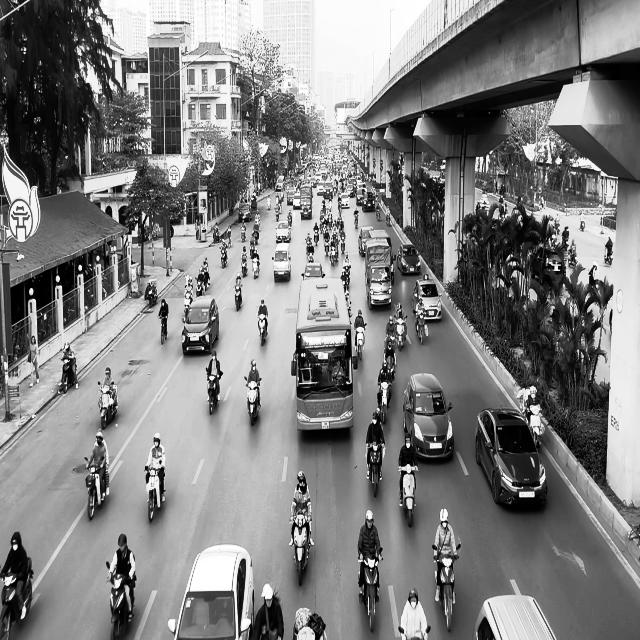bus: (291, 276, 354, 432)
car: (168, 544, 255, 640), (475, 407, 547, 508), (403, 372, 454, 461), (472, 594, 557, 639), (181, 296, 219, 356), (530, 246, 566, 287), (412, 276, 442, 321), (396, 244, 421, 275), (272, 244, 291, 282), (301, 262, 325, 280), (274, 220, 290, 243)
motorbike: (0, 557, 34, 639), (432, 543, 460, 631), (105, 560, 136, 638), (358, 550, 382, 632), (84, 456, 110, 520), (290, 512, 312, 586), (398, 464, 418, 527), (144, 464, 165, 522), (366, 440, 385, 497), (97, 380, 118, 429), (244, 375, 261, 426), (205, 368, 223, 415), (58, 356, 78, 394), (377, 380, 391, 424), (354, 323, 366, 360), (415, 311, 428, 344), (257, 311, 268, 346), (145, 279, 157, 306), (158, 314, 168, 344), (234, 282, 243, 311), (219, 242, 228, 268), (252, 252, 260, 278), (604, 244, 613, 265), (240, 255, 248, 277)
